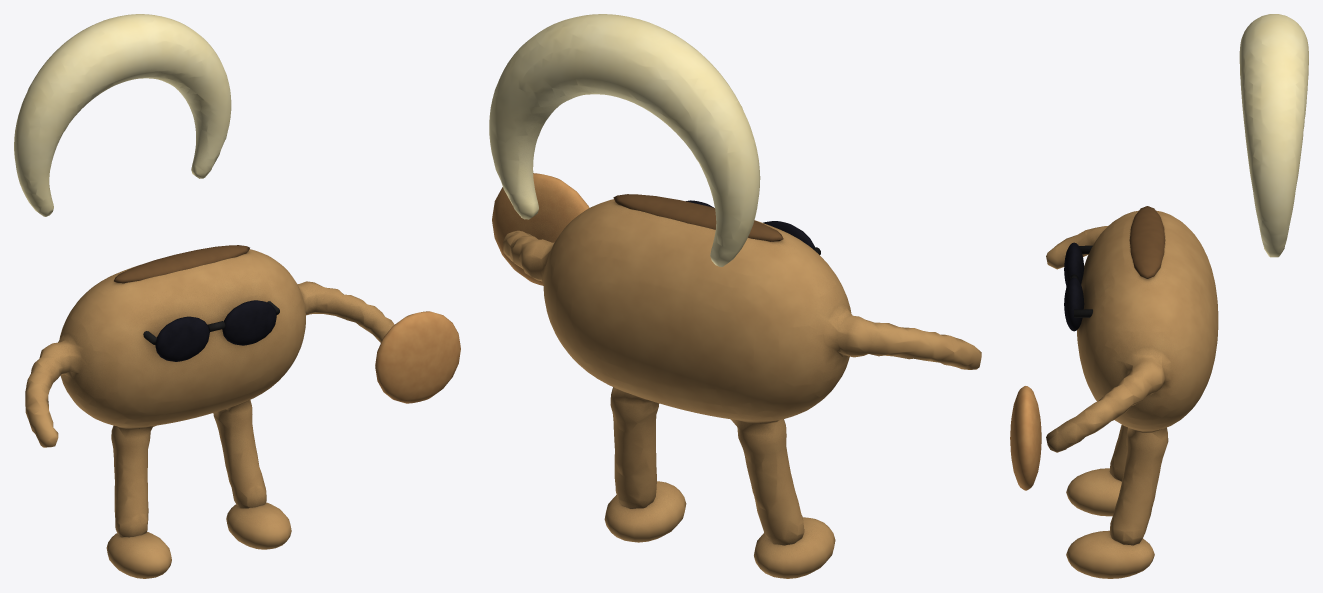
The model's file is FulMoon.fbx.
The picture shows the model from 3 angles, left to right: view 1: azimuth 30°, elevation 25°; view 2: azimuth 150°, elevation 25°; view 3: azimuth 270°, elevation 25°; orthographic projection. The views are drawn at different scales.
Parts seen in each view (by area): view 1: FulMoon; view 2: FulMoon; view 3: FulMoon.
Boxes of the visible parts, x1,y1,x2,y2 form: FulMoon: (14, 14, 460, 578); FulMoon: (489, 14, 981, 578); FulMoon: (1010, 14, 1308, 578).
Size of the model in its own units: 476 by 540 by 283.
Materials: 1 (1 with a texture image).
